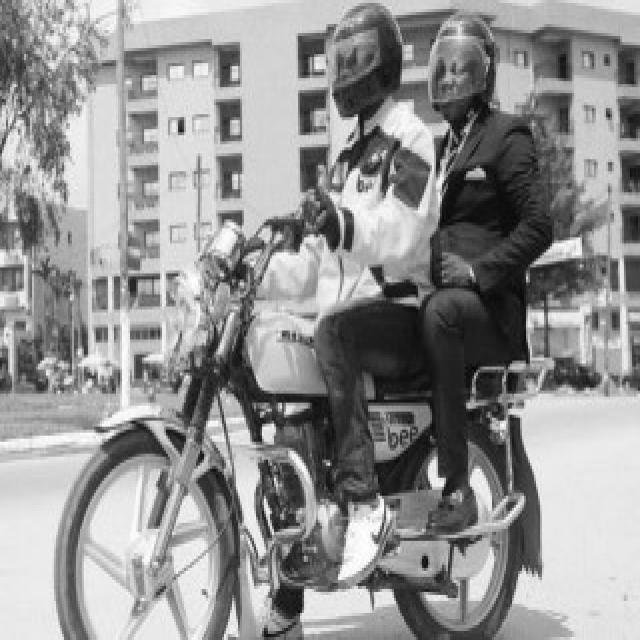Motorbike: (53, 3, 554, 640)
